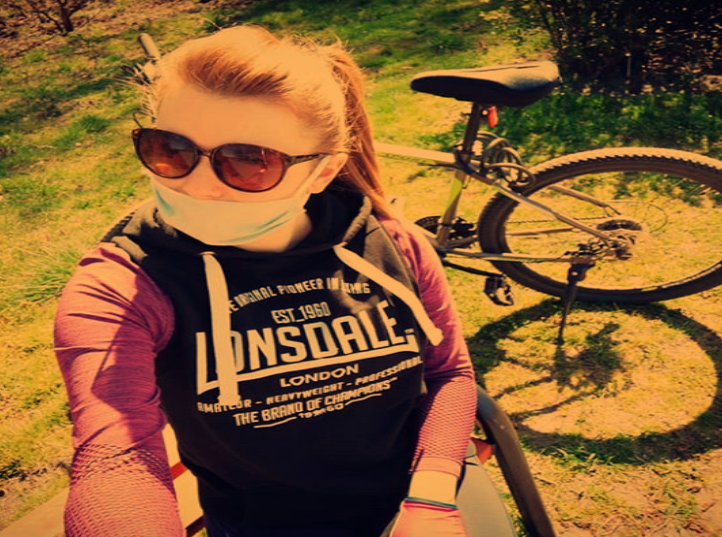mask_weared_incorrect: (125, 30, 359, 249)
